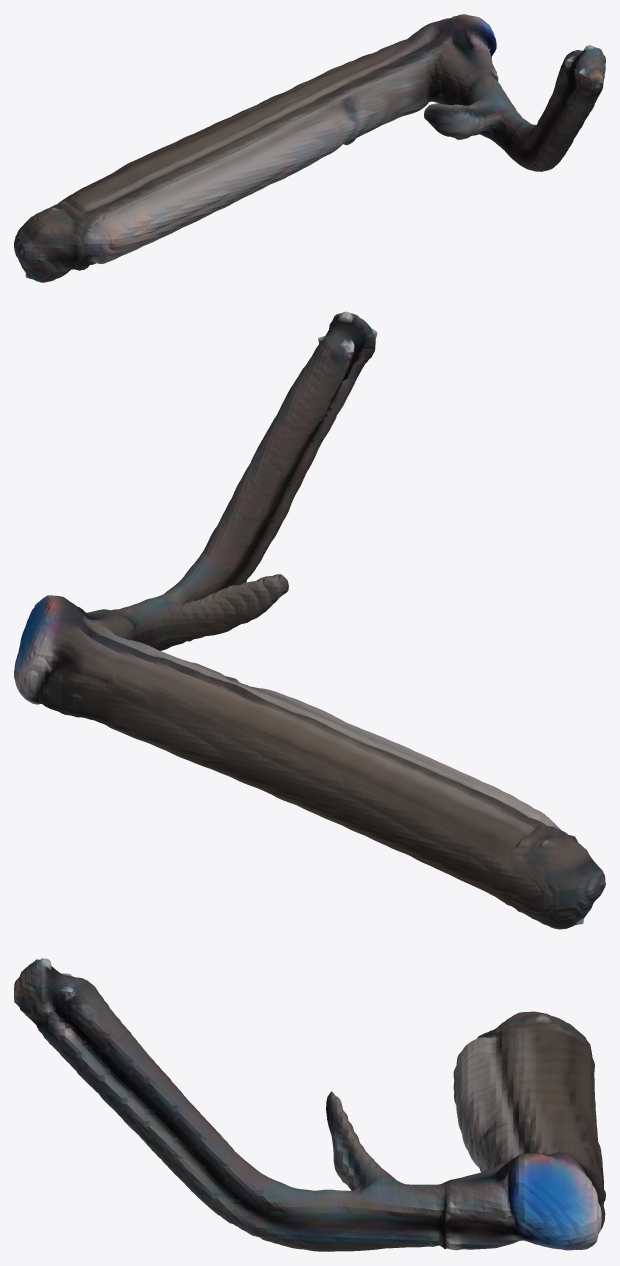
The picture shows the model from 3 angles, top to bottom: view 1: azimuth 30°, elevation 25°; view 2: azimuth 150°, elevation 25°; view 3: azimuth 270°, elevation 25°; orthographic projection. The views are drawn at different scales.
Bounding box in the file's own units: 0.8908 × 0.5014 × 0.7118.
